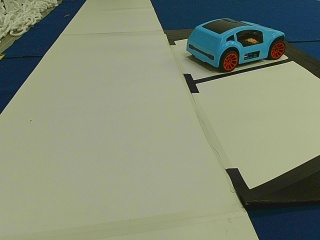car: (186, 19, 287, 70)
